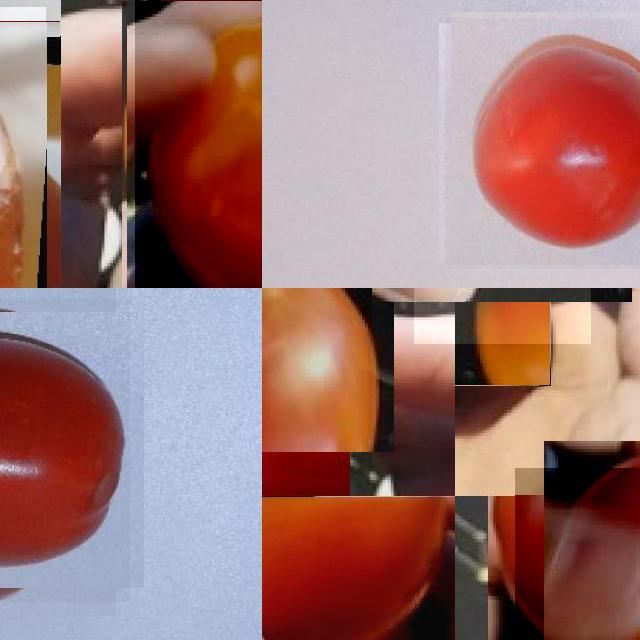0: (444, 17, 640, 265), (0, 298, 129, 602)
Fresh Tomato: (262, 496, 455, 640), (515, 468, 640, 640), (413, 288, 591, 343)
Rotten Tomato: (135, 0, 262, 288), (262, 288, 372, 474), (0, 21, 60, 288)
